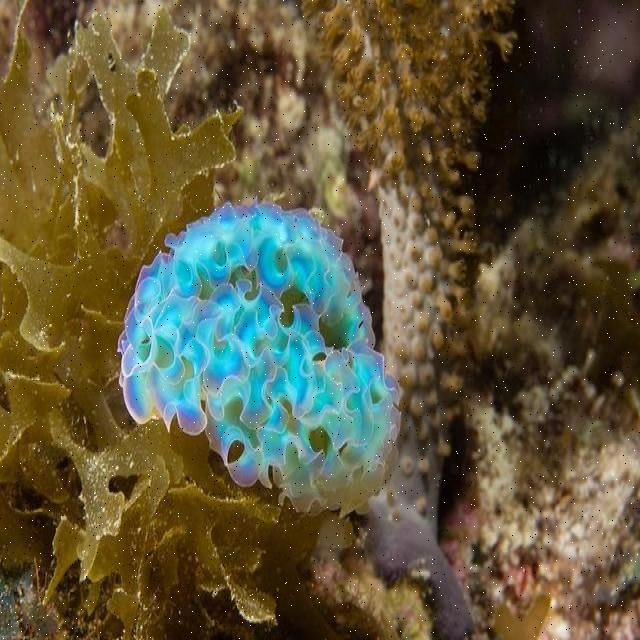reefs: (0, 8, 356, 639), (300, 0, 518, 638), (116, 198, 406, 516)
